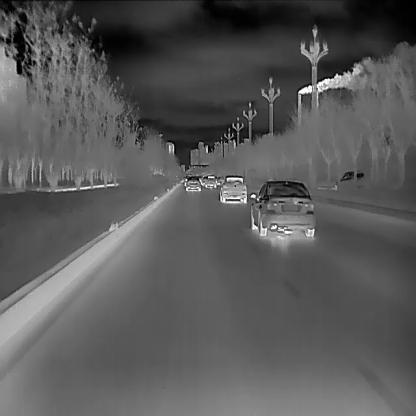car: (249, 179, 315, 236), (219, 174, 246, 202), (184, 176, 200, 191), (205, 174, 216, 188)
